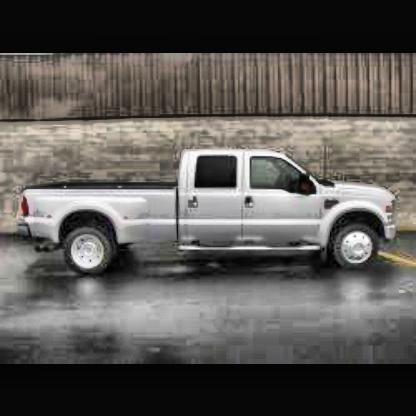Ford F-450 Super Duty Crew Cab 2012: (21, 147, 400, 275)
